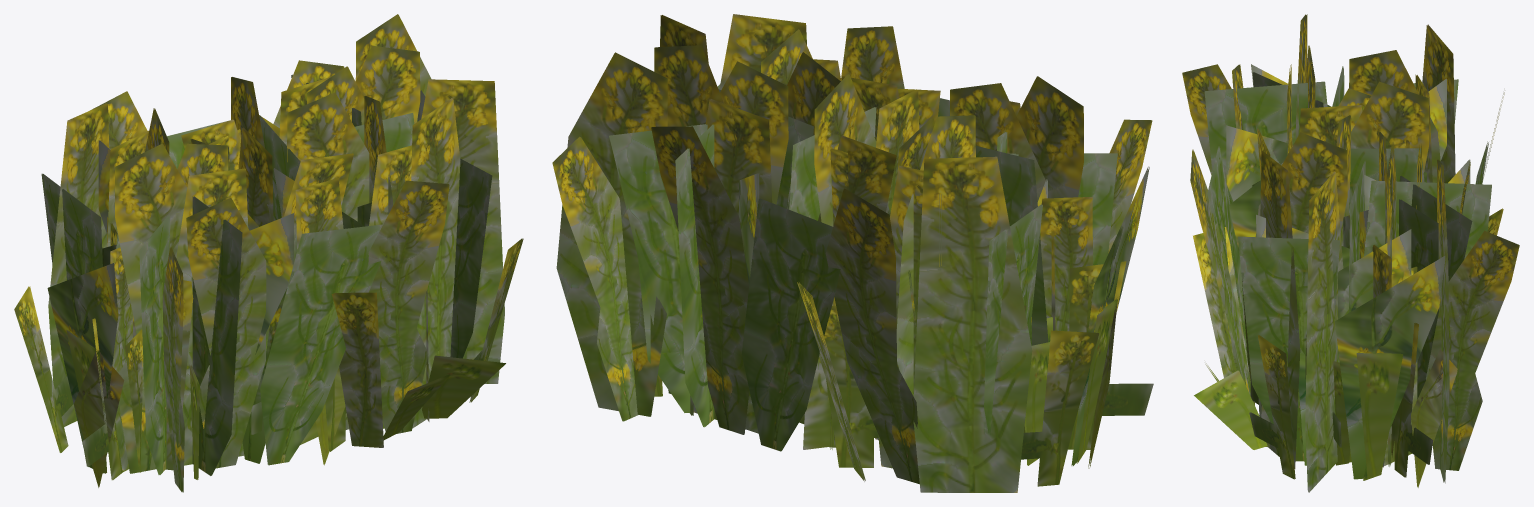
The model's file is NaturePlant07_2.FBX.
3 views of the same model, side by side, from view 1: azimuth 30°, elevation 25°; view 2: azimuth 150°, elevation 25°; view 3: azimuth 270°, elevation 25° (orthographic). The views are drawn at different scales.
Parts seen in each view (by area): view 1: NaturePlant07_2; view 2: NaturePlant07_2; view 3: NaturePlant07_2.
Boxes of the visible parts, <box> form: NaturePlant07_2: <box>14,14,523,492</box>; NaturePlant07_2: <box>552,14,1153,492</box>; NaturePlant07_2: <box>1182,14,1519,492</box>.
Size of what is drawn, in the model's own units: 1.74 by 1.21 by 1.14.
